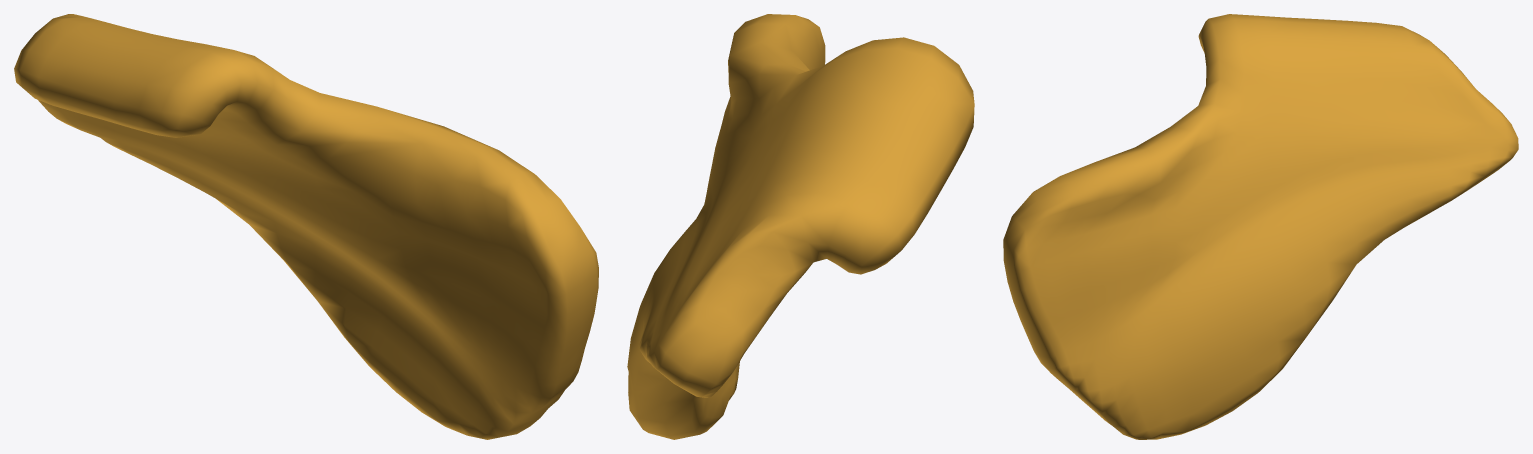
3 views of the same model, side by side, from view 1: azimuth 30°, elevation 25°; view 2: azimuth 150°, elevation 25°; view 3: azimuth 270°, elevation 25° (orthographic). The views are drawn at different scales.
Parts seen in each view (by area): view 1: 左侧腮腺; view 2: 左侧腮腺; view 3: 左侧腮腺.
Part boxes in pixels (x1,y1,x2,y2): 左侧腮腺: (14,14,598,439); 左侧腮腺: (627,14,974,439); 左侧腮腺: (1003,14,1518,439).
Size of the model in its own units: 0.0462 by 0.0487 by 0.0702.
